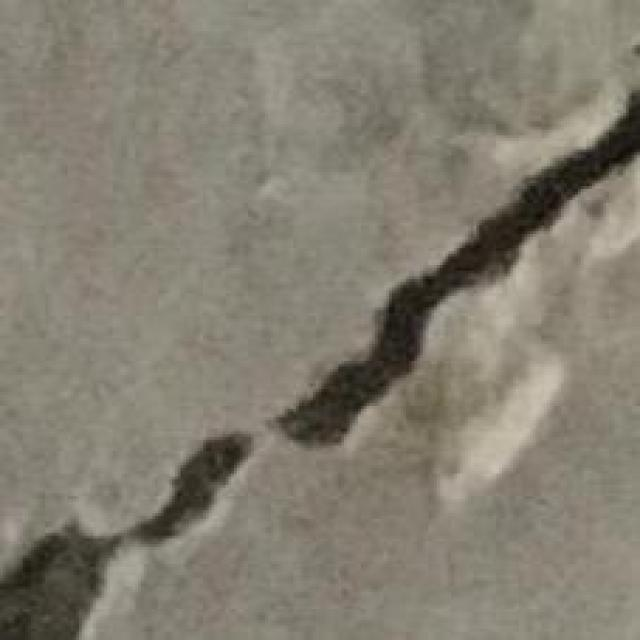Crack: (1, 90, 640, 635)
